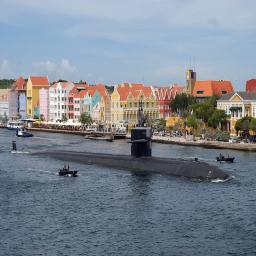submarine: (12, 128, 238, 181)
